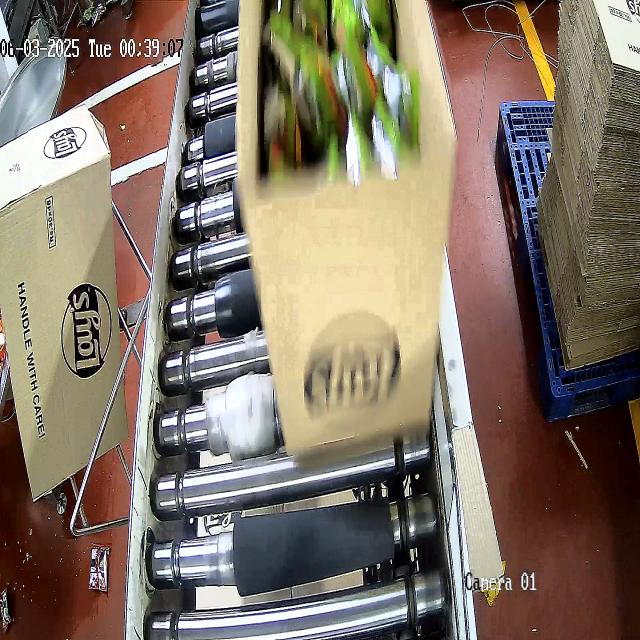YOGURT_HERB: (259, 0, 418, 176)
